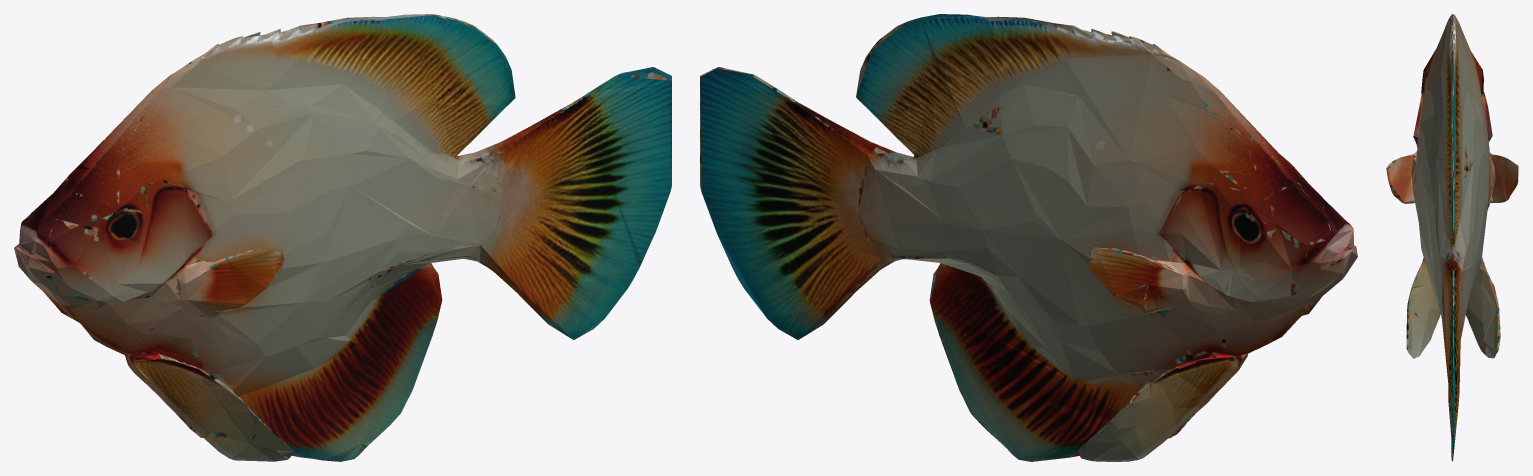
The model's file is fish_0107_smpl23_resized.glb.
3 views of the same model, side by side, from view 1: azimuth 30°, elevation 25°; view 2: azimuth 150°, elevation 25°; view 3: azimuth 270°, elevation 25° (orthographic). The views are drawn at different scales.
Parts seen in each view (by area): view 1: world; view 2: world; view 3: world.
Boxes of the visible parts, left/top/right/bottom form: world: left=14, top=14, right=671, bottom=461; world: left=700, top=14, right=1357, bottom=461; world: left=1386, top=14, right=1518, bottom=461.
Bounding box in the file's own units: 1.99 × 1.31 × 0.4374.
1 material, 1 textured.
